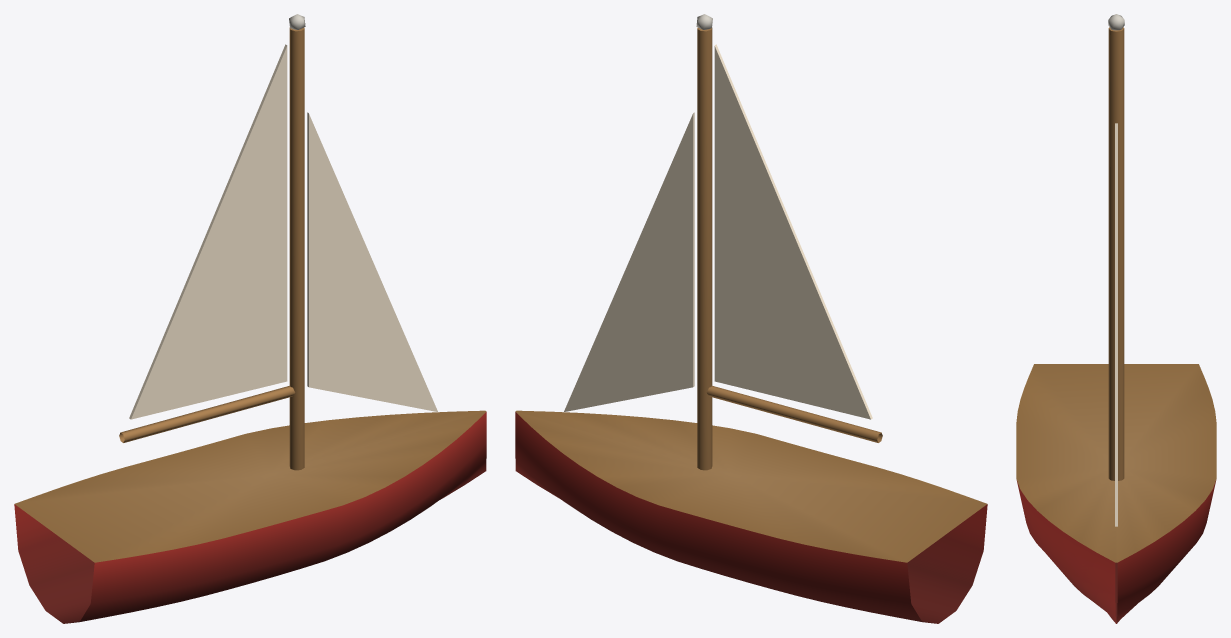
File: sea_sailb.glb
The picture shows the model from 3 angles, left to right: view 1: azimuth 30°, elevation 25°; view 2: azimuth 150°, elevation 25°; view 3: azimuth 270°, elevation 25°; orthographic projection. The views are drawn at different scales.
Visible parts, largest first — view 1: sea_sailb_main, sea_sailb_sail; view 2: sea_sailb_main, sea_sailb_sail; view 3: sea_sailb_main, sea_sailb_sail.
Part boxes in pixels (x1,y1,x2,y2): sea_sailb_main: (14,14,486,623); sea_sailb_sail: (129,44,437,419); sea_sailb_main: (515,14,987,623); sea_sailb_sail: (564,44,872,419); sea_sailb_main: (1016,14,1216,623); sea_sailb_sail: (1115,123,1117,526).
Size of the model in its own units: 1.6 by 1.93 by 0.628.
